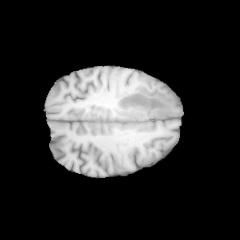glioma: (117, 93, 172, 119)
